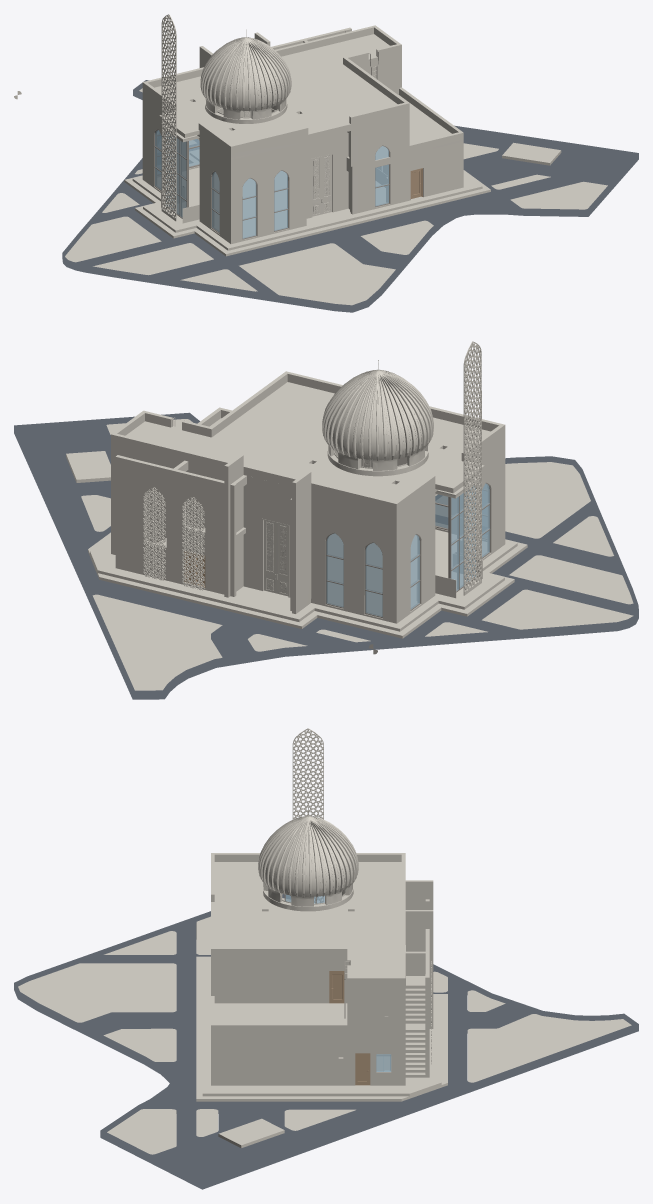
Rendered from imam-hassan-mosque.glb.
3 renders of one model, top to bottom at view 1: azimuth 30°, elevation 25°; view 2: azimuth 150°, elevation 25°; view 3: azimuth 270°, elevation 25°, orthographic. The views are drawn at different scales.
Parts seen in each view (by area): view 1: stone, ground, glass, metal; view 2: stone, ground, glass, metal; view 3: stone, ground, wood.
Boxes of the visible parts, box(x1,y1,x2,y2) form: stone: box(14, 14, 607, 305); ground: box(62, 80, 638, 312); glass: box(155, 130, 388, 238); metal: box(154, 129, 389, 239); stone: box(66, 341, 633, 690); ground: box(14, 412, 638, 699); glass: box(326, 483, 489, 616); metal: box(325, 482, 490, 618); stone: box(18, 728, 631, 1154); ground: box(14, 894, 638, 1189); wood: box(329, 971, 370, 1085).
Bounding box in the file's own units: 111 × 41.79 × 101.
